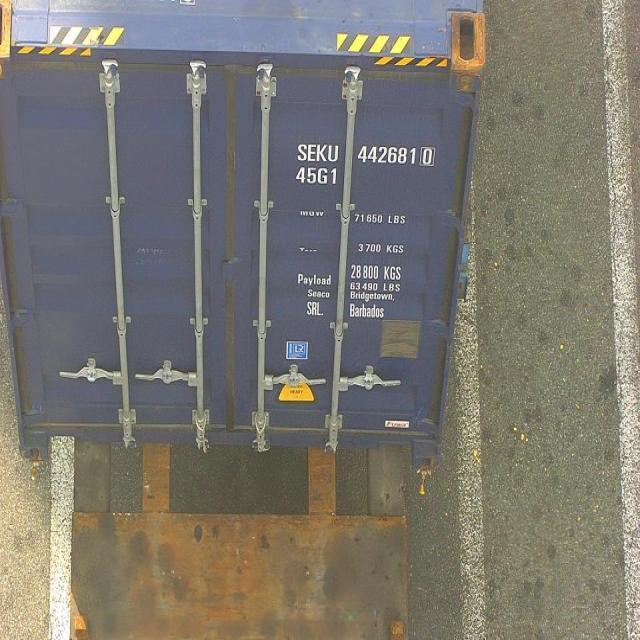ISO: (292, 166, 339, 191)
container_number: (301, 144, 437, 167)
